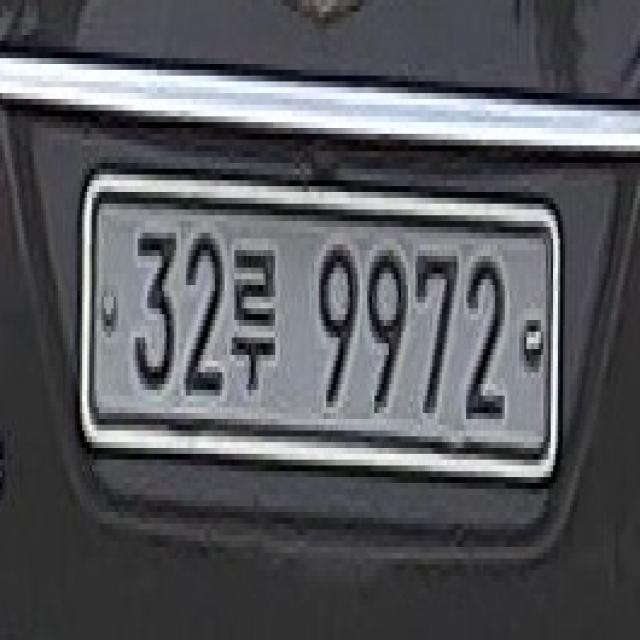2: (178, 221, 224, 402), (461, 250, 505, 425)
3: (131, 227, 181, 401)
7: (411, 244, 456, 419)
9: (314, 245, 360, 408), (367, 244, 408, 419)
license_plate: (89, 186, 553, 471)
lu: (230, 232, 276, 396)
